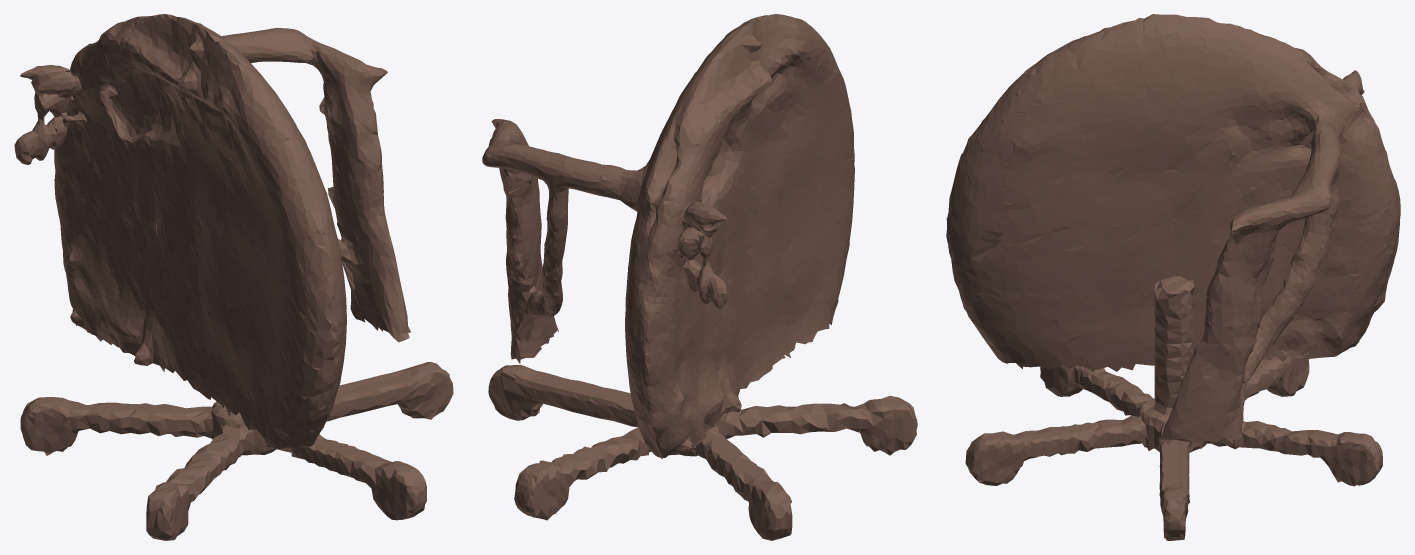
Rendered from improved.glb.
3 views of the same model, side by side, from view 1: azimuth 30°, elevation 25°; view 2: azimuth 150°, elevation 25°; view 3: azimuth 270°, elevation 25° (orthographic). The views are drawn at different scales.
Visible parts, largest first — view 1: world; view 2: world; view 3: world.
Part boxes in pixels (left/top/right/bottom): world: left=14, top=14, right=453, bottom=540; world: left=482, top=14, right=917, bottom=540; world: left=946, top=14, right=1400, bottom=540.
Size of the model in its own units: 1.31 by 1.53 by 1.49.
